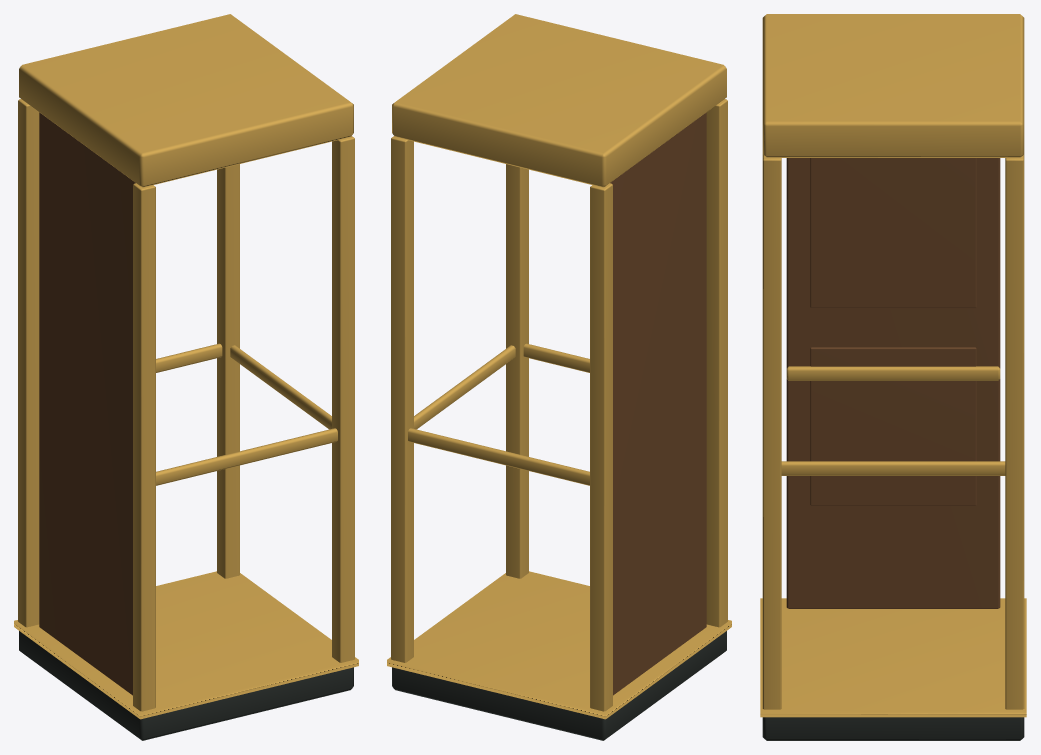
File: lounge_elevator_cab.glb
3 views of the same model, side by side, from view 1: azimuth 30°, elevation 25°; view 2: azimuth 150°, elevation 25°; view 3: azimuth 270°, elevation 25° (orthographic). The views are drawn at different scales.
Visible parts, largest first — view 1: BackPanel, Ceiling, FloorBrass, Post3, Post2, Post0, Post1, Floor, RailS, RailE, RailN; view 2: BackPanel, Ceiling, FloorBrass, Post0, Post1, Post3, Post2, Floor, RailN, RailE, RailS; view 3: BackPanel, Ceiling, FloorBrass, BackInset1, BackInset0, Post1, Post2, Floor, RailE, RailW.
Boxes of the visible parts, x1,y1,x2,y2 form: BackPanel: [39, 112, 135, 695]; Ceiling: [19, 14, 353, 187]; FloorBrass: [14, 571, 358, 719]; Post3: [133, 183, 155, 711]; Post2: [332, 136, 354, 662]; Post0: [18, 99, 39, 627]; Post1: [217, 164, 239, 578]; Floor: [19, 631, 353, 740]; RailS: [156, 428, 337, 485]; RailE: [230, 345, 331, 429]; RailN: [156, 343, 222, 372]; BackPanel: [610, 112, 706, 695]; Ceiling: [392, 14, 726, 187]; FloorBrass: [387, 571, 731, 719]; Post0: [590, 183, 612, 711]; Post1: [391, 136, 413, 662]; Post3: [706, 99, 727, 627]; Post2: [506, 164, 528, 578]; Floor: [392, 631, 726, 740]; RailN: [408, 428, 589, 485]; RailE: [414, 345, 515, 429]; RailS: [523, 343, 589, 372]; BackPanel: [786, 158, 1000, 608]; Ceiling: [762, 14, 1024, 157]; FloorBrass: [760, 598, 1026, 717]; BackInset1: [810, 158, 976, 308]; BackInset0: [810, 347, 976, 505]; Post1: [1005, 154, 1024, 709]; Post2: [762, 154, 781, 709]; Floor: [762, 717, 1024, 740]; RailE: [781, 461, 1005, 475]; RailW: [786, 366, 1000, 380].
Size of the model in its own units: 0.6627 by 1.7 by 0.6627.
